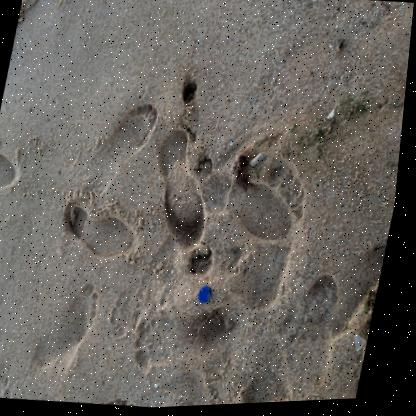Plastic: (359, 336, 371, 354)
Waste: (203, 288, 216, 305)
